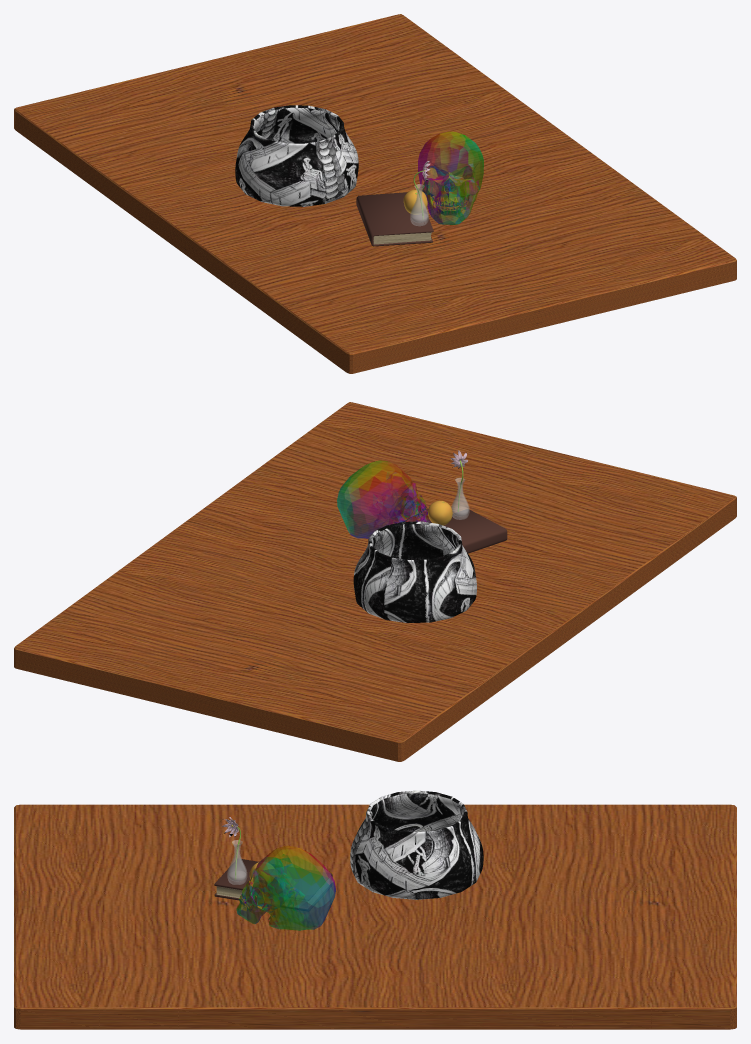
The model's file is vanities.glb.
3 views of the same model, one above another, from view 1: azimuth 30°, elevation 25°; view 2: azimuth 150°, elevation 25°; view 3: azimuth 270°, elevation 25° (orthographic). The views are drawn at different scales.
Parts seen in each view (by area): view 1: Cube, Plane.004, SKULL002.001, Cube.004; view 2: Cube, Plane.004, SKULL002.001, Cube.004; view 3: Cube, Plane.004, SKULL002.001, Cube.004, Plane.002, Cube.003.
Boxes of the visible parts, box(x1,y1,x2,y2) form: Cube: box(14, 14, 736, 373); Plane.004: box(235, 105, 358, 206); SKULL002.001: box(418, 131, 483, 224); Cube.004: box(356, 192, 433, 246); Cube: box(14, 402, 736, 761); Plane.004: box(353, 521, 476, 622); SKULL002.001: box(337, 460, 430, 538); Cube.004: box(428, 509, 507, 553); Cube: box(14, 804, 736, 1029); Plane.004: box(350, 790, 483, 899); SKULL002.001: box(236, 845, 335, 930); Cube.004: box(214, 858, 332, 911); Plane.002: box(227, 840, 246, 884); Cube.003: box(216, 878, 329, 908).
Size of the model in its own units: 4 by 0.9409 by 6.
Materials: 11 (6 with a texture image).
